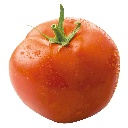tomato: (9, 17, 120, 124)
